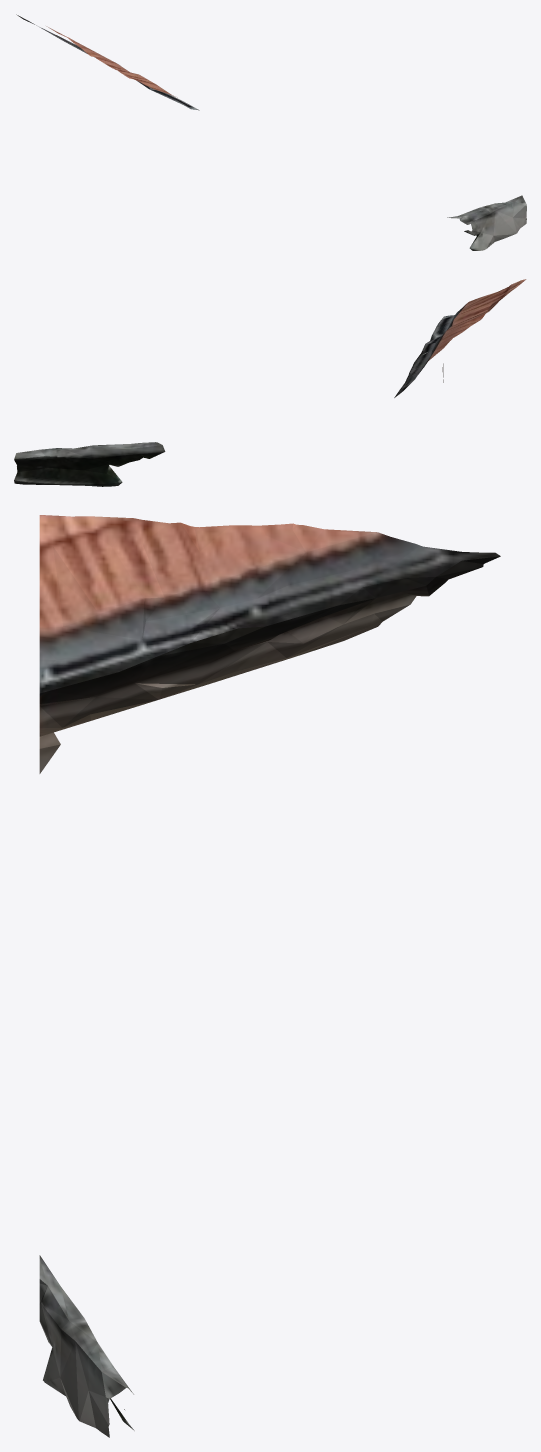
3 renders of one model, top to bottom at view 1: azimuth 30°, elevation 25°; view 2: azimuth 150°, elevation 25°; view 3: azimuth 270°, elevation 25°, orthographic. The views are drawn at different scales.
Bounding box in the file's own units: 3.35 × 2 × 1.61.
1 material, 1 textured.
